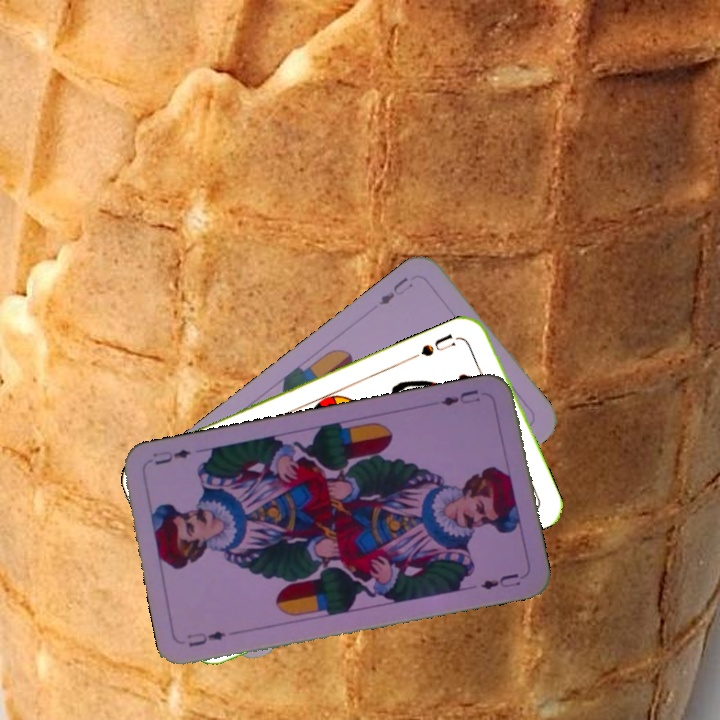EU: (374, 273, 415, 308), (437, 385, 481, 409), (183, 627, 228, 650)
SU: (417, 329, 458, 359)
